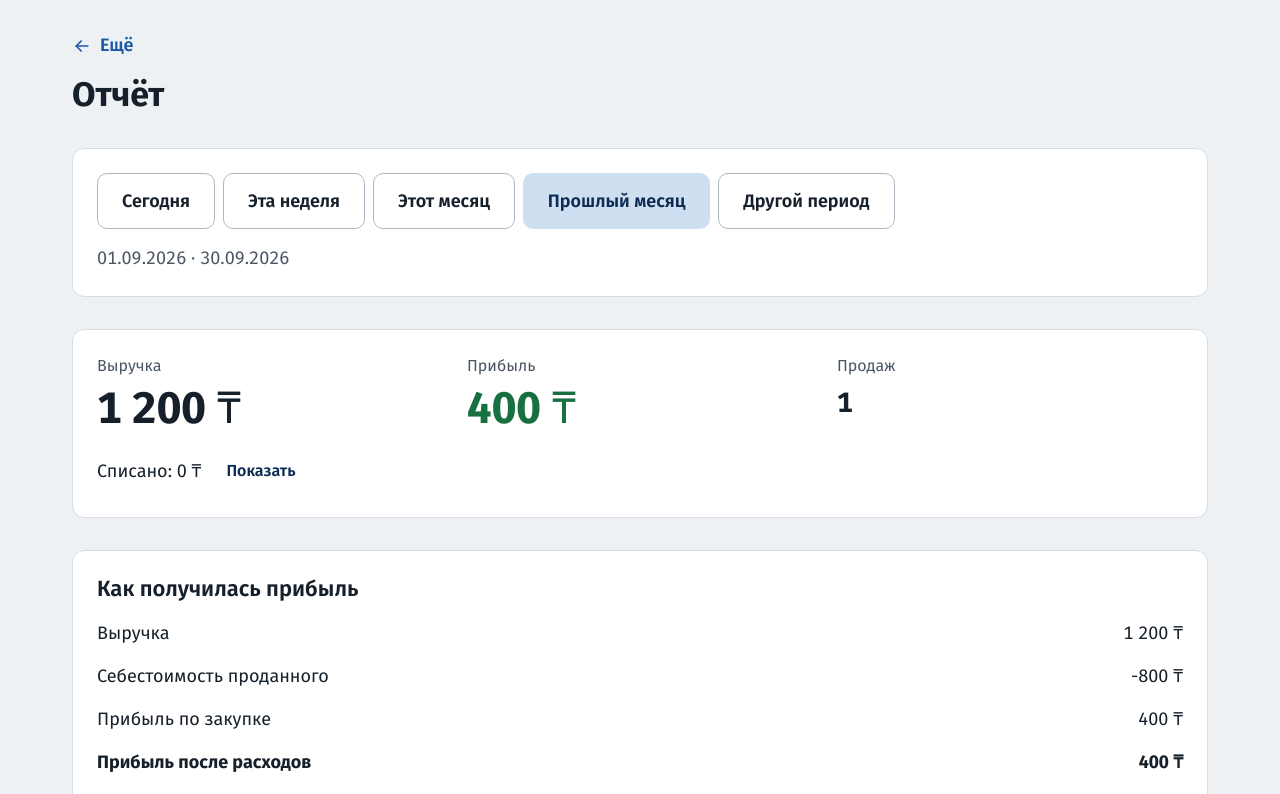
Test: ReportPage › shows unknown detail values and resets disclosure on period change
What coordinates should you click on to do the following:
click the button "Показать"
I would click on:
 (261, 471)
Its box is [209,449,313,493].
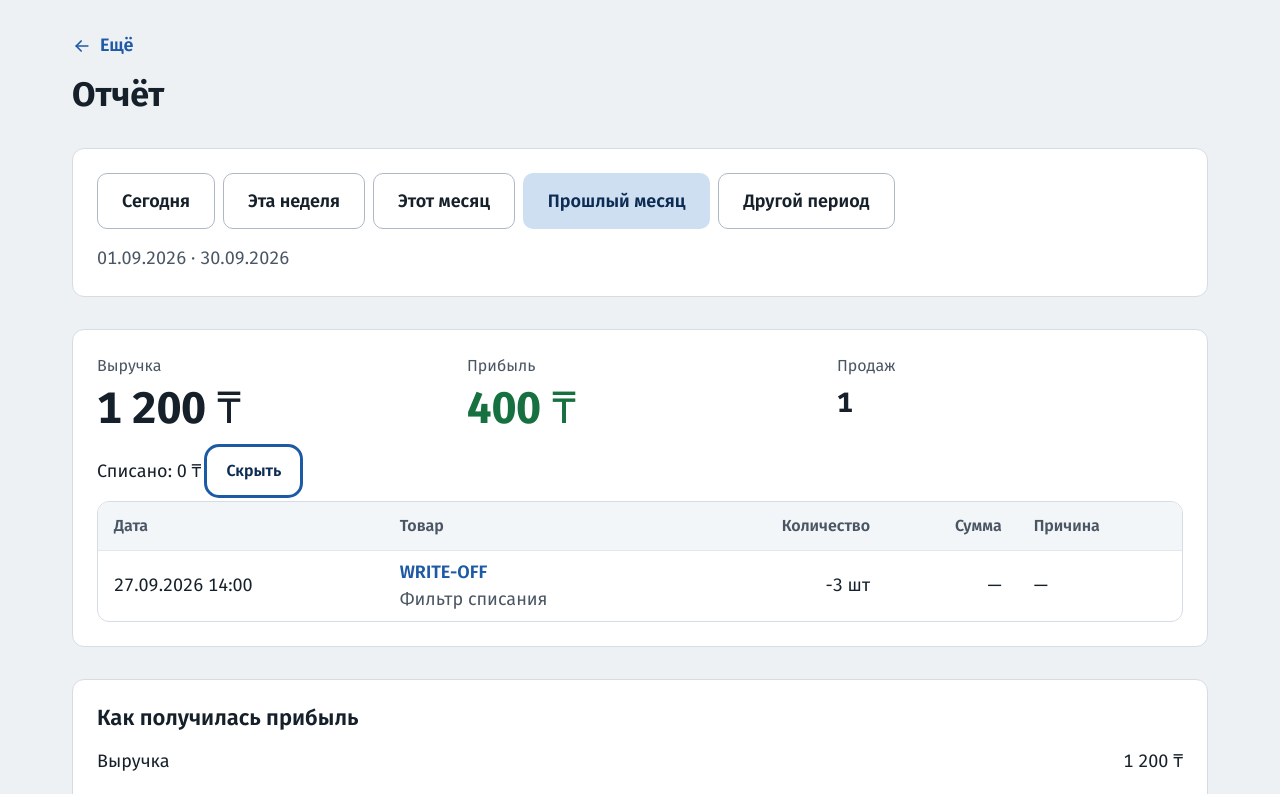
Now the 1st text "—" is shown, box [886,550,1018,621]
What coordinates should you click on to do the following:
click the button "Сегодня"
I would click on:
 (156, 201)
Its box is [97,173,215,229].
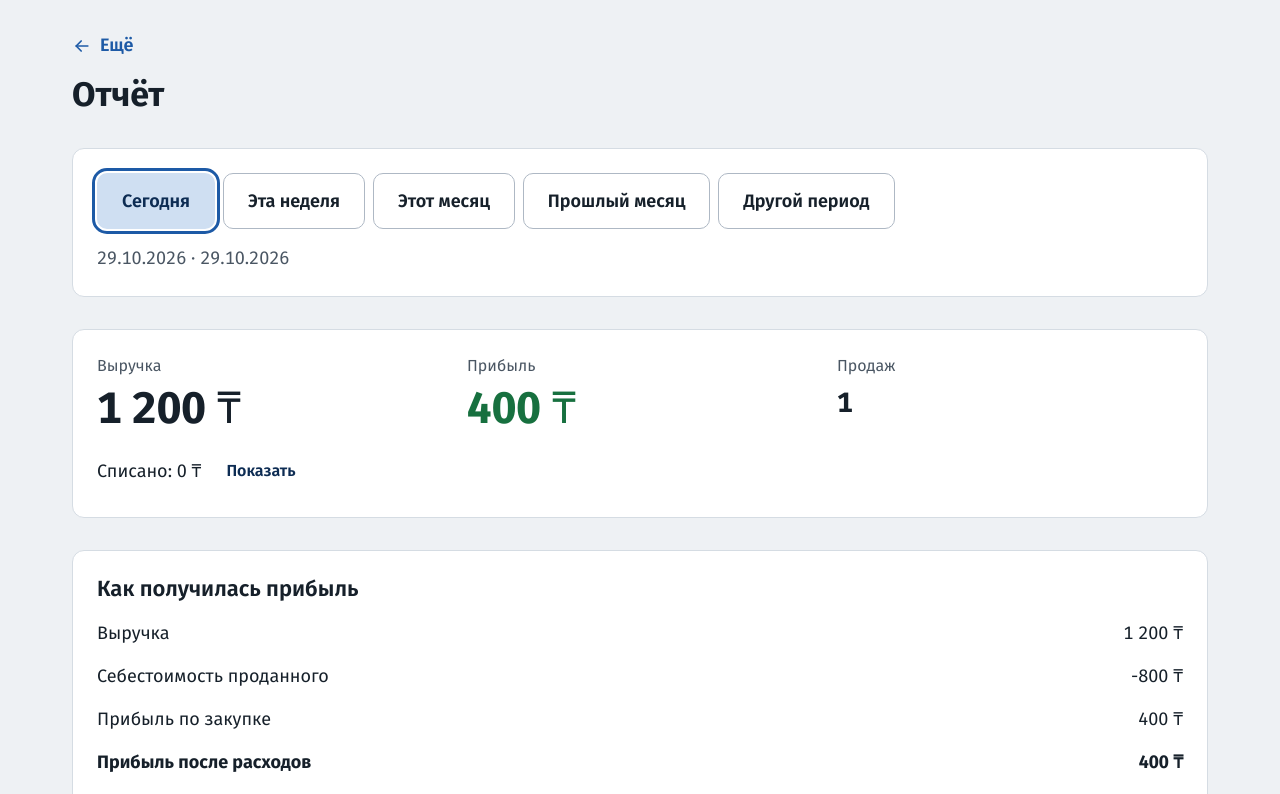
Now the button "Показать" is shown, box [209,449,313,493]
Now the button "Скрыть" is gone
